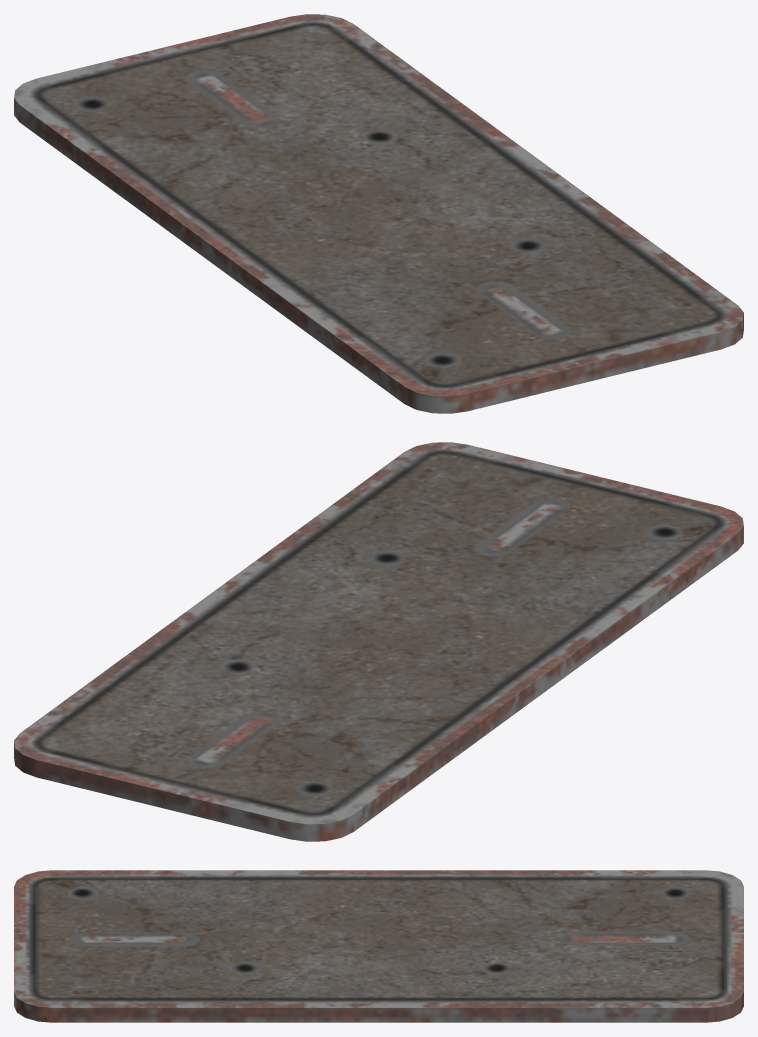
Rendered from MB_Sewer_Hatch_03.fbx.
The picture shows the model from 3 angles, top to bottom: view 1: azimuth 30°, elevation 25°; view 2: azimuth 150°, elevation 25°; view 3: azimuth 270°, elevation 25°; orthographic projection. The views are drawn at different scales.
Visible parts, largest first — view 1: MB_Sewer_Hatch_03; view 2: MB_Sewer_Hatch_03; view 3: MB_Sewer_Hatch_03.
Boxes of the visible parts, bbox=[...] form: MB_Sewer_Hatch_03: bbox=[14, 14, 743, 413]; MB_Sewer_Hatch_03: bbox=[14, 442, 743, 841]; MB_Sewer_Hatch_03: bbox=[14, 870, 743, 1022].
Bounding box in the file's own units: 21.52 × 1.07 × 48.17.
